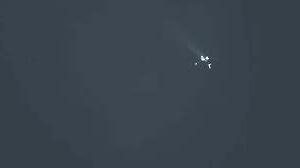Plane: (179, 47, 230, 73)
